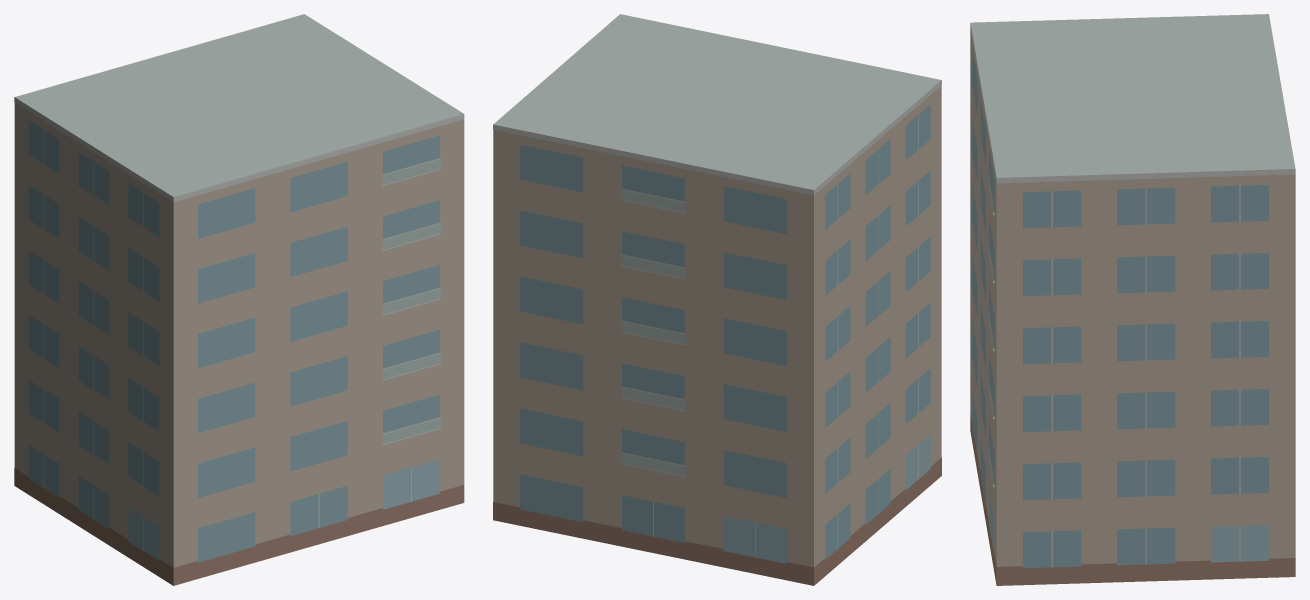
Rendered from survey-upis-32756515.glb.
The picture shows the model from 3 angles, left to right: view 1: azimuth 30°, elevation 25°; view 2: azimuth 150°, elevation 25°; view 3: azimuth 270°, elevation 25°; orthographic projection. The views are drawn at different scales.
Parts seen in each view (by area): view 1: survey-upis-32756515.tmp; view 2: survey-upis-32756515.tmp; view 3: survey-upis-32756515.tmp.
Boxes of the visible parts, bbox=[...] form: survey-upis-32756515.tmp: bbox=[14, 14, 464, 585]; survey-upis-32756515.tmp: bbox=[493, 14, 941, 585]; survey-upis-32756515.tmp: bbox=[970, 14, 1295, 585].
Size of the model in its own units: 15.78 by 18.3 by 13.23.
